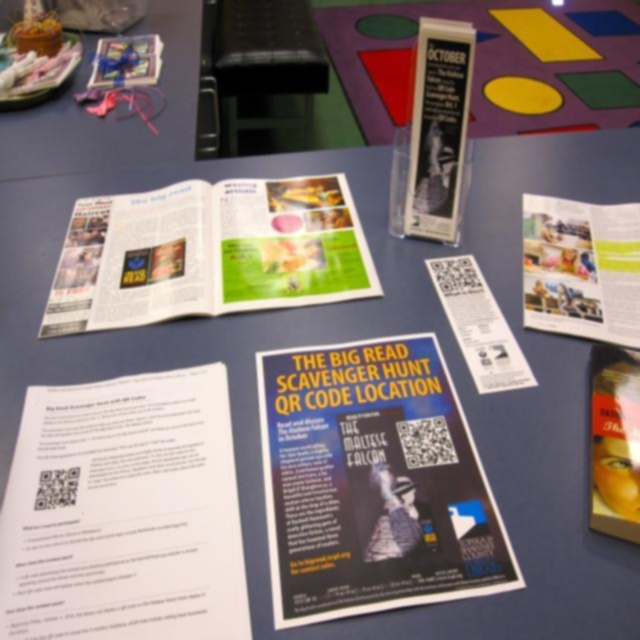qr-code: (398, 418, 458, 468), (34, 467, 80, 510), (430, 258, 483, 292)
